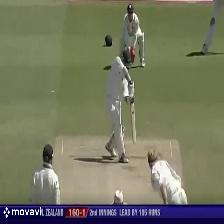batsman: (103, 46, 143, 167)
